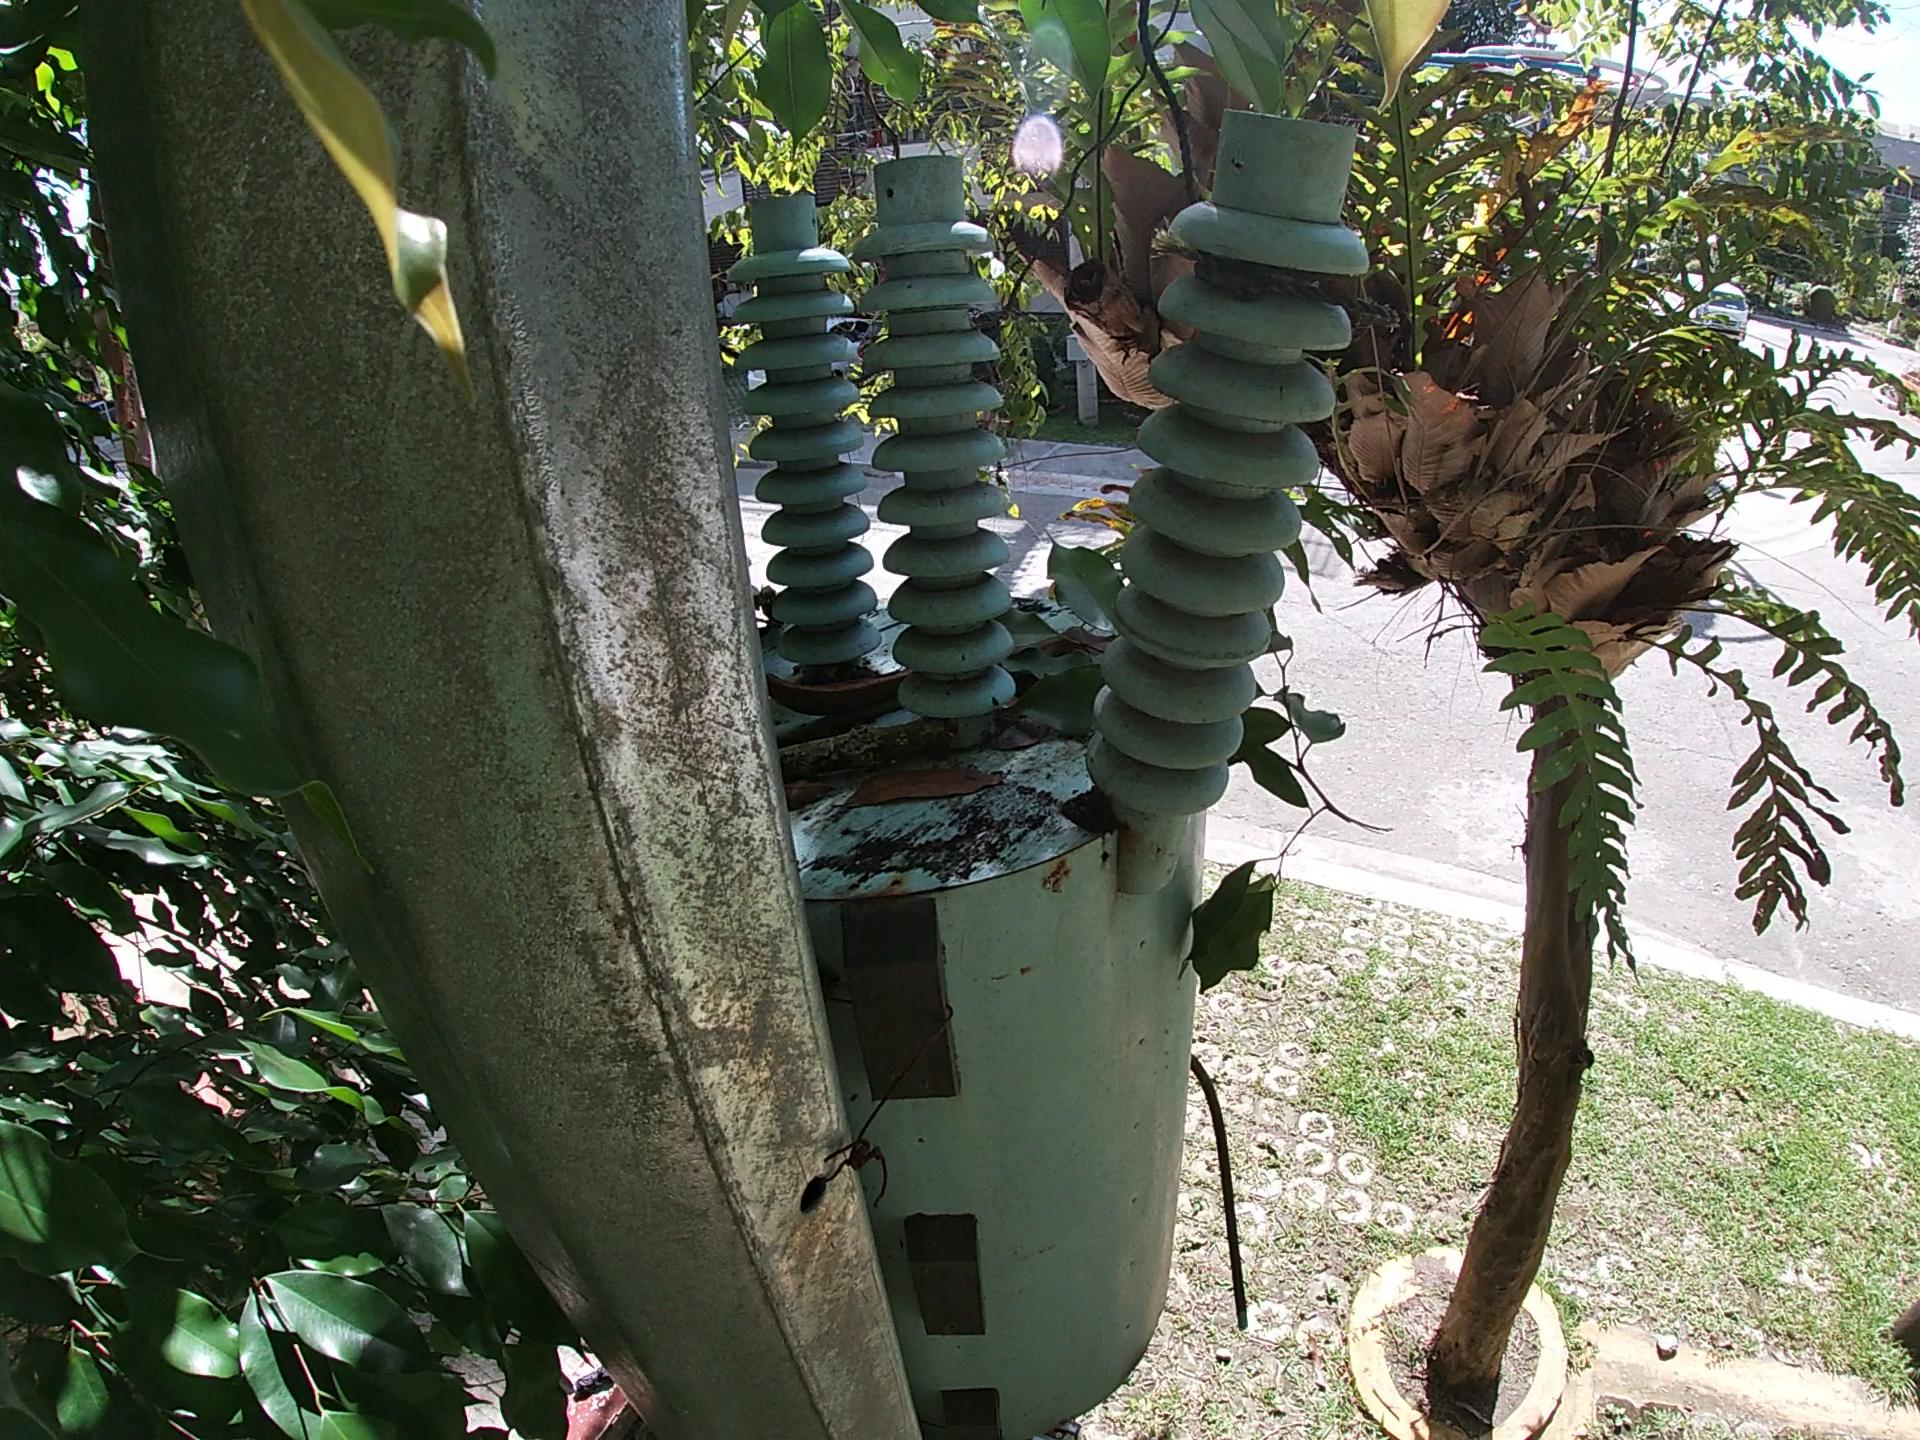branch with leaves: (1184, 610, 1389, 1019)
leaf: (1005, 522, 1116, 714), (847, 767, 1001, 809), (776, 771, 842, 808)
mahogany fruit: (763, 658, 909, 718)
tree branch: (766, 729, 958, 762)
